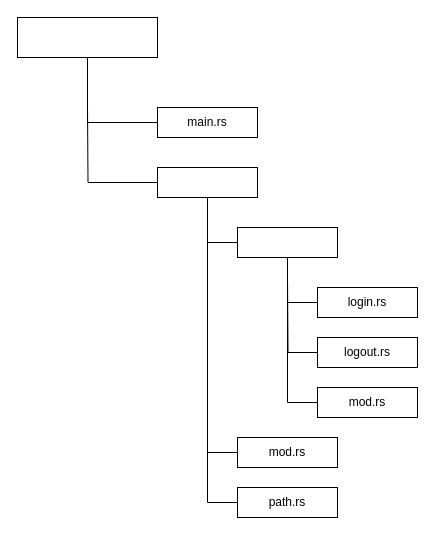
This 435x535 diagram has some shape labels left out. Each missing label, with the centre of its shape:
"administrando_vistas" belongs at pixel 87 37.
"auth" belongs at pixel 287 242.
"vistas" belongs at pixel 207 182.
